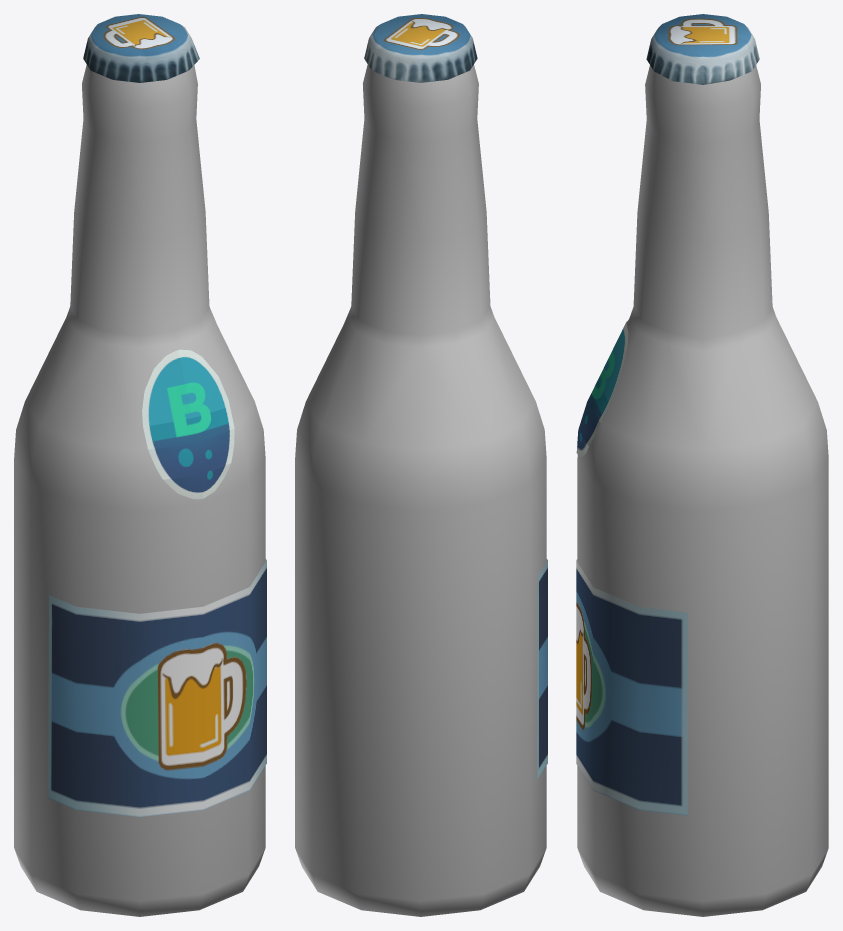
Rendered from Ht_jiubei_11.FBX.
3 renders of one model, left to right at view 1: azimuth 30°, elevation 25°; view 2: azimuth 150°, elevation 25°; view 3: azimuth 270°, elevation 25°, orthographic.
Parts seen in each view (by area): view 1: Ht_jiubei_11_01, Ht_jiubei_11_02; view 2: Ht_jiubei_11_01, Ht_jiubei_11_02; view 3: Ht_jiubei_11_01, Ht_jiubei_11_02.
Part boxes in pixels (x1,y1,x2,y2): Ht_jiubei_11_01: (14,64,265,916); Ht_jiubei_11_02: (47,14,266,816); Ht_jiubei_11_01: (295,64,546,916); Ht_jiubei_11_02: (364,14,547,779); Ht_jiubei_11_01: (577,65,828,916); Ht_jiubei_11_02: (576,14,759,815).
Bounding box in the file's own units: 6.04 × 22.3 × 6.07.
